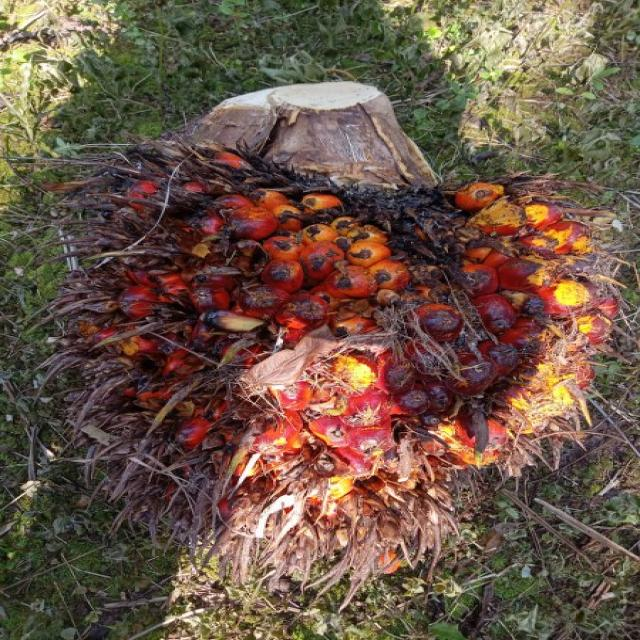fraksi 4: (0, 70, 637, 611)
